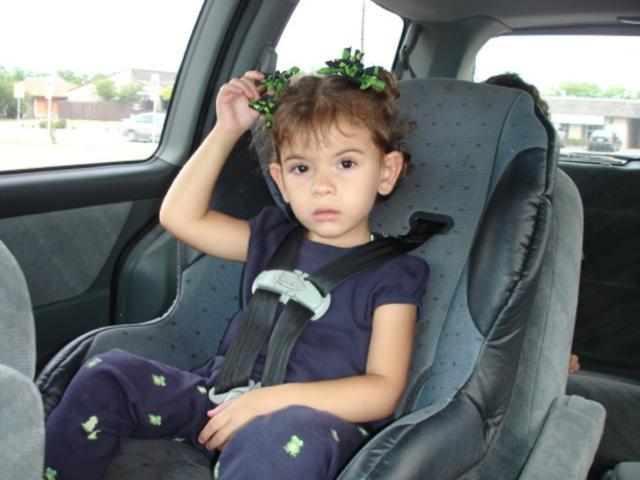SafeDriving: (328, 148, 364, 176), (282, 153, 319, 179)
Seatbelt: (208, 220, 446, 408), (215, 226, 307, 394)
